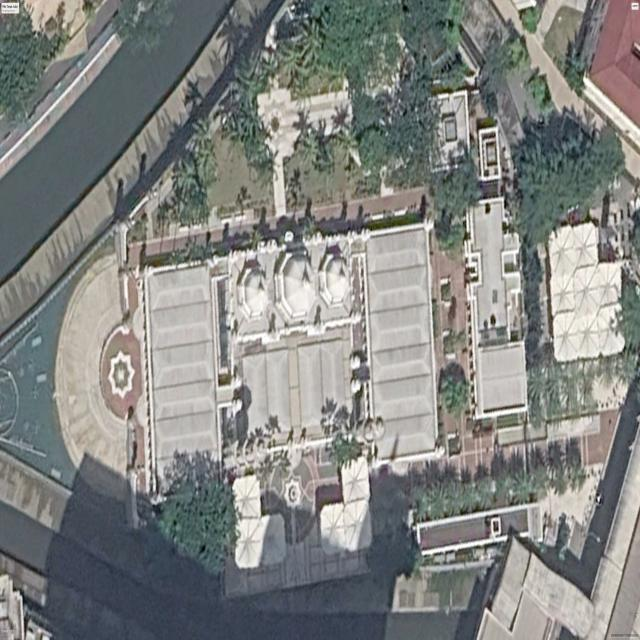mosque: (144, 223, 438, 491)
